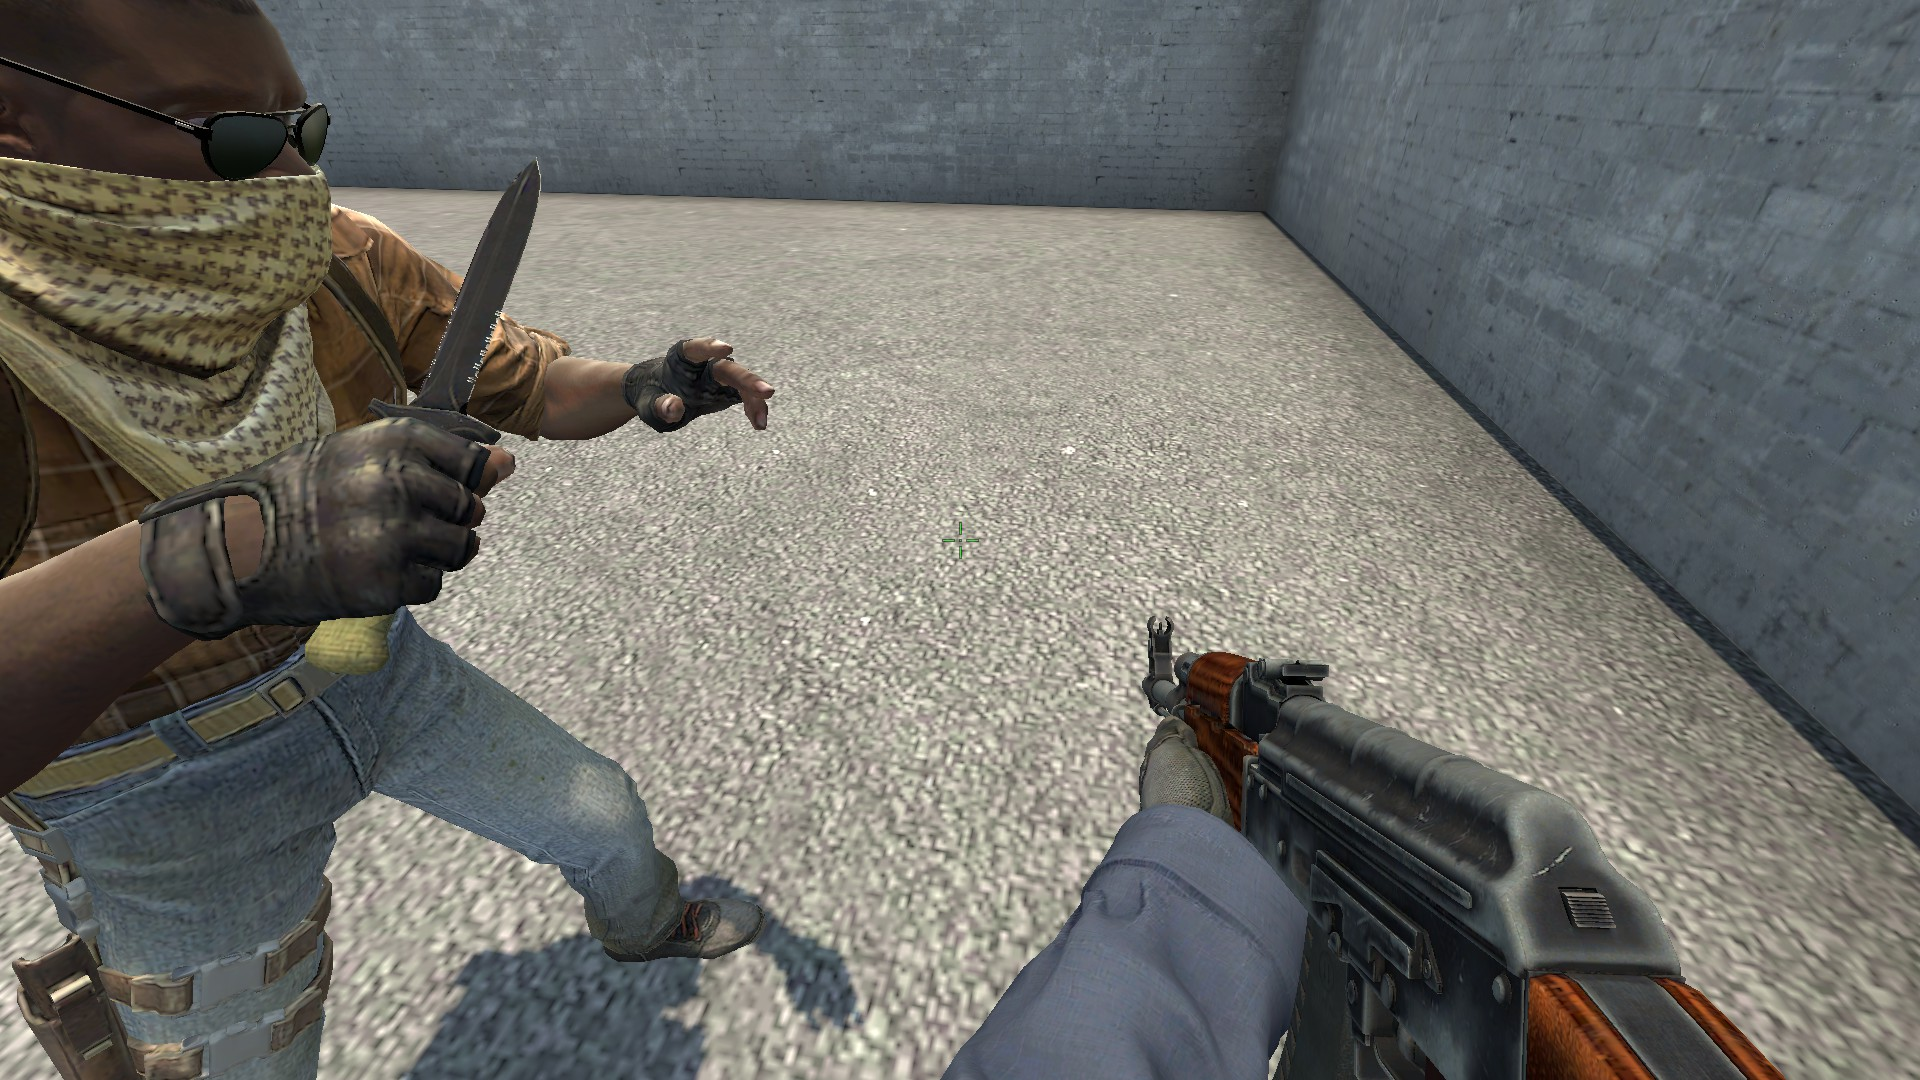tr: (1, 1, 781, 1080)
tr head: (1, 1, 335, 345)
